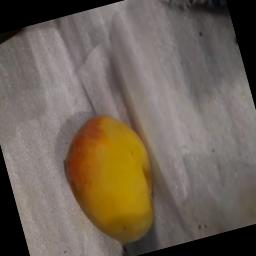Peach Ripe: (44, 98, 178, 256)
